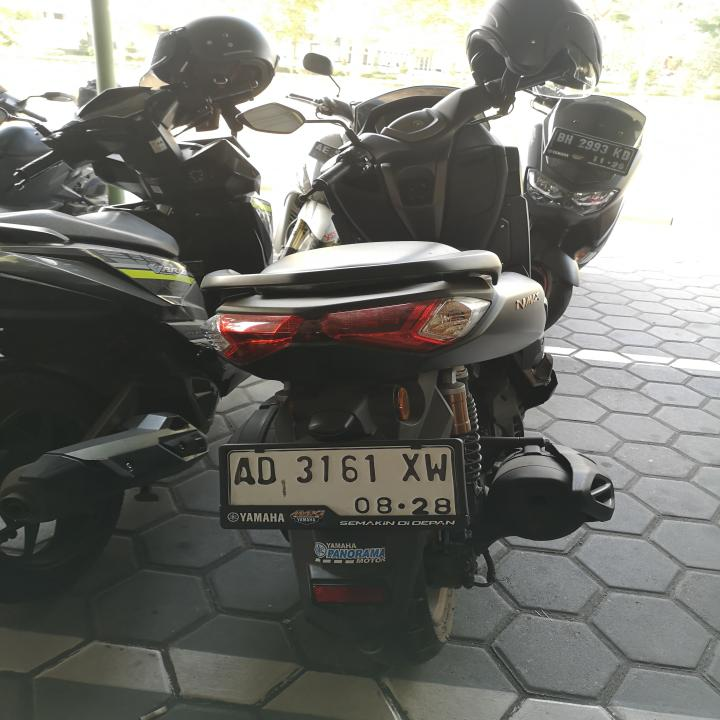plate: (226, 438, 467, 523), (544, 125, 639, 175)
